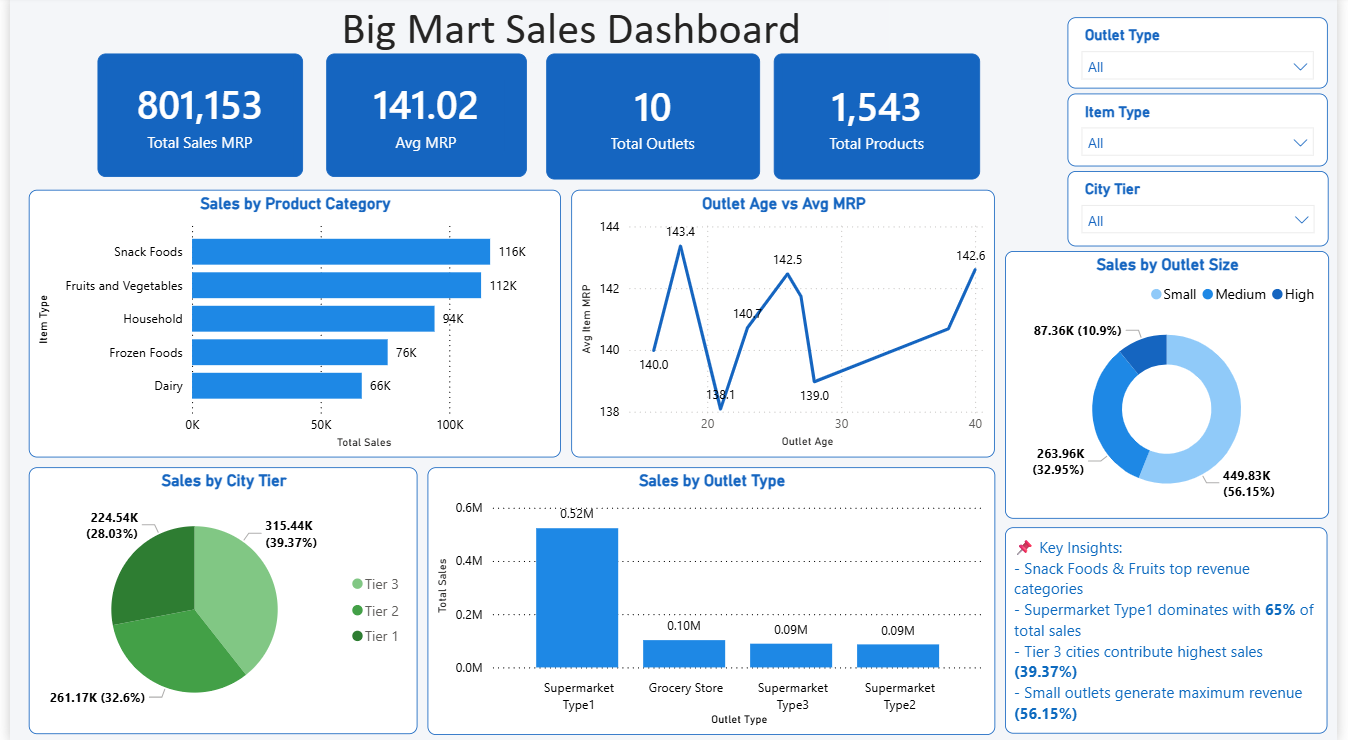

The dashboard page shown, as its layout file describes it:
{"tool":"powerbi","page":{"name":"Page 1","canvas":[1280,720],"ordinal":0},"visuals":[{"type":"textbox","box":[315.1,0,534.2,64],"z":0},{"type":"cardVisual","fields":{"Data":["Big_Mart_Sales_Cleaned.Total Sales MRP"]},"box":[84.9,55.4,198.2,119.4],"z":1000},{"type":"cardVisual","fields":{"Data":["Big_Mart_Sales_Cleaned.Avg Item MRP"]},"box":[305.2,55.4,193.2,119.4],"z":2000},{"type":"cardVisual","fields":{"Data":["Big_Mart_Sales_Cleaned.Total Outlets"]},"box":[518.2,55.4,206.8,121.8],"z":3000},{"type":"cardVisual","fields":{"Data":["Big_Mart_Sales_Cleaned.Total Products (units)"]},"box":[737.2,55.4,199.4,121.8],"z":4000},{"type":"clusteredBarChart","title":"Sales by Product Category","fields":{"Category":["Big_Mart_Sales_Cleaned.Item_Type"],"Y":["Big_Mart_Sales_Cleaned.Total Sales"]},"box":[18.5,187.1,513.2,258.5],"z":5000},{"type":"clusteredColumnChart","title":"Sales by Outlet Type","fields":{"Category":["Big_Mart_Sales_Cleaned.Outlet_Type"],"Y":["Big_Mart_Sales_Cleaned.Total Sales"]},"box":[402.5,455.4,544,257.2],"z":6000},{"type":"donutChart","title":"Sales by Outlet Size","fields":{"Category":["Big_Mart_Sales_Cleaned.Outlet_Size"],"Y":["Big_Mart_Sales_Cleaned.Total Sales"]},"box":[960,246.2,312.6,258.5],"z":7000},{"type":"lineChart","title":"Outlet Age vs Avg MRP ","fields":{"Category":["Big_Mart_Sales_Cleaned.Outlet_Age"],"Y":["Big_Mart_Sales_Cleaned.Avg Item MRP"]},"box":[541.5,187.1,404.9,258.5],"z":8000},{"type":"pieChart","title":"Sales by City Tier","fields":{"Y":["Big_Mart_Sales_Cleaned.Total Sales1"],"Category":["Big_Mart_Sales_Cleaned.Outlet_Location_Type"]},"box":[18.5,455.4,375.4,257.2],"z":9000},{"type":"slicer","title":"Outlet Type","fields":{"Values":["Big_Mart_Sales_Cleaned.Outlet_Type"]},"box":[1020.3,20.9,251.1,68.9],"z":10000},{"type":"slicer","title":"Outlet Type","fields":{"Values":["Big_Mart_Sales_Cleaned.Item_Type"]},"box":[1020.3,93.5,251.1,70.2],"z":11000},{"type":"slicer","title":"Outlet Type","fields":{"Values":["Big_Mart_Sales_Cleaned.Outlet_Location_Type"]},"box":[1020.3,168.6,252.3,72.6],"z":12000},{"type":"textbox","box":[960,513.2,311.4,199.4],"z":12001}]}

Visuals, with their boxes in screenshot pixels (x1, y1, x2, y2), scaled from the page's 1280x720 canvas onto the 1348x740 screenshot:
textbox: locate(332, 0, 894, 66)
cardVisual - Big_Mart_Sales_Cleaned.Total Sales MRP: locate(89, 57, 298, 180)
cardVisual - Big_Mart_Sales_Cleaned.Avg Item MRP: locate(321, 57, 525, 180)
cardVisual - Big_Mart_Sales_Cleaned.Total Outlets: locate(546, 57, 764, 182)
cardVisual - Big_Mart_Sales_Cleaned.Total Products (units): locate(776, 57, 986, 182)
"Sales by Product Category" clusteredBarChart: locate(19, 192, 560, 458)
"Sales by Outlet Type" clusteredColumnChart: locate(424, 468, 997, 732)
"Sales by Outlet Size" donutChart: locate(1011, 253, 1340, 519)
"Outlet Age vs Avg MRP " lineChart: locate(570, 192, 997, 458)
"Sales by City Tier" pieChart: locate(19, 468, 415, 732)
"Outlet Type" slicer: locate(1075, 21, 1339, 92)
"Outlet Type" slicer: locate(1075, 96, 1339, 168)
"Outlet Type" slicer: locate(1075, 173, 1340, 248)
textbox: locate(1011, 527, 1339, 732)
